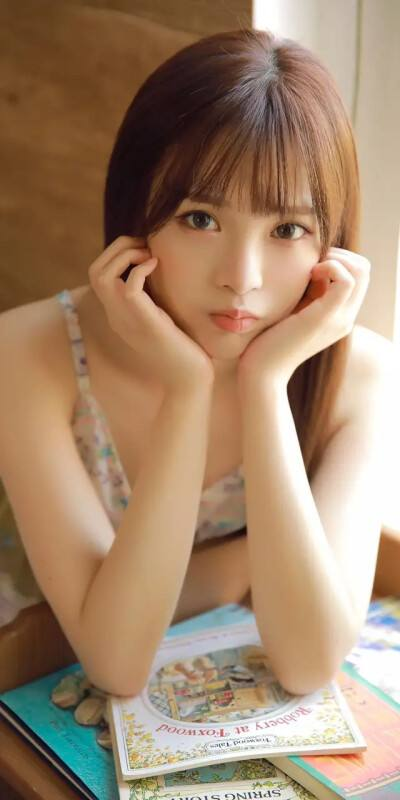person: (64, 38, 310, 440)
